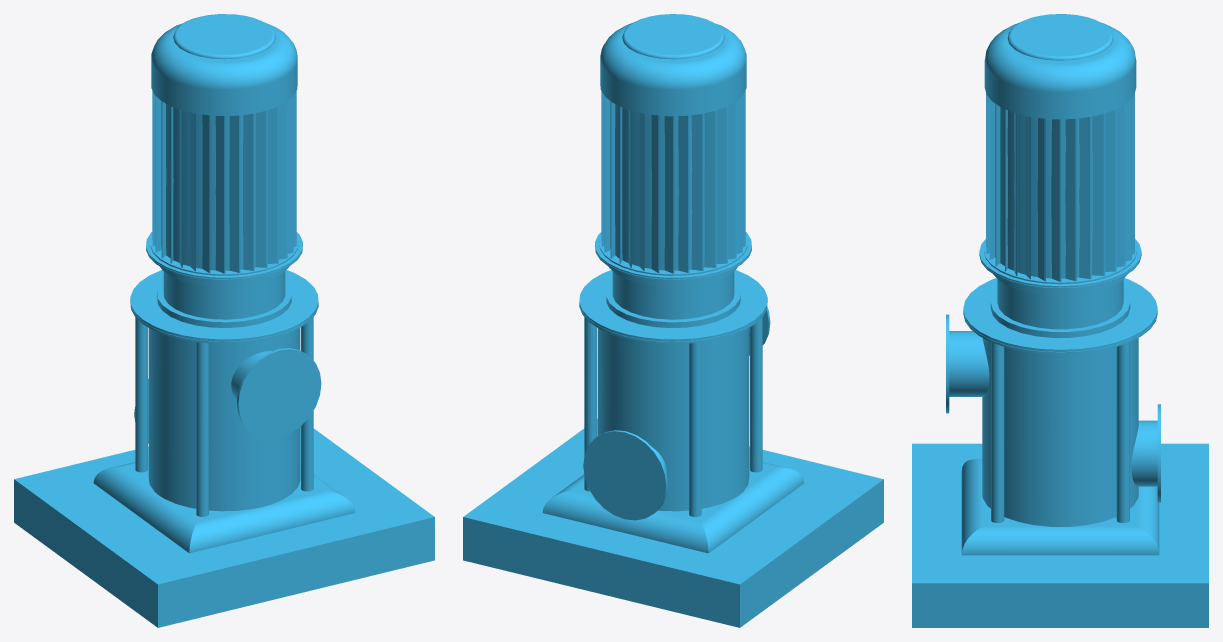
The picture shows the model from 3 angles, left to right: view 1: azimuth 30°, elevation 25°; view 2: azimuth 150°, elevation 25°; view 3: azimuth 270°, elevation 25°; orthographic projection. The views are drawn at different scales.
Bounding box in the file's own units: 1100 × 1925 × 990.
